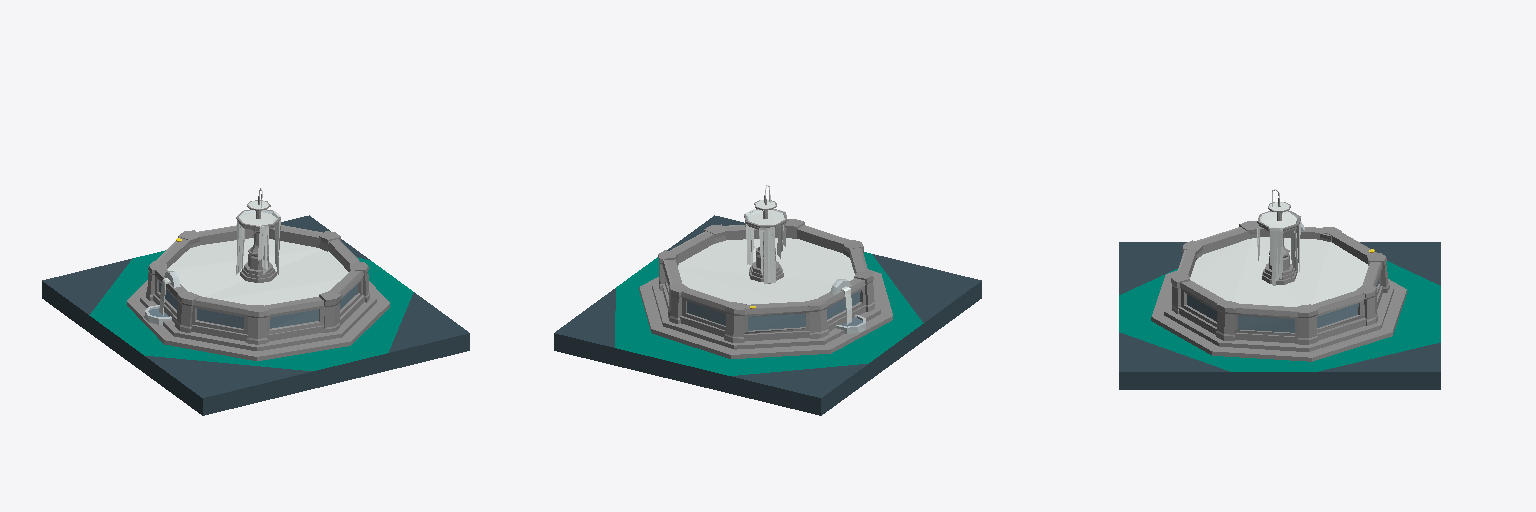
The picture shows the model from 3 angles: view 1: azimuth 30°, elevation 25°; view 2: azimuth 150°, elevation 25°; view 3: azimuth 270°, elevation 25°; orthographic projection.
Parts seen in each view (by area): view 1: group[number redacted]; view 2: group[number redacted]; view 3: group[number redacted].
Part boxes in pixels (x1,y1,x2,y2): group[number redacted]: (42,188,469,415); group[number redacted]: (554,185,981,415); group[number redacted]: (1119,189,1440,389).
Size of the model in its own units: 1.43 by 0.6995 by 1.49.